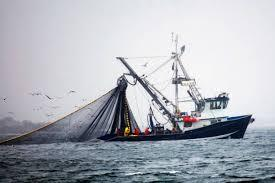Ship: (100, 34, 255, 141)
